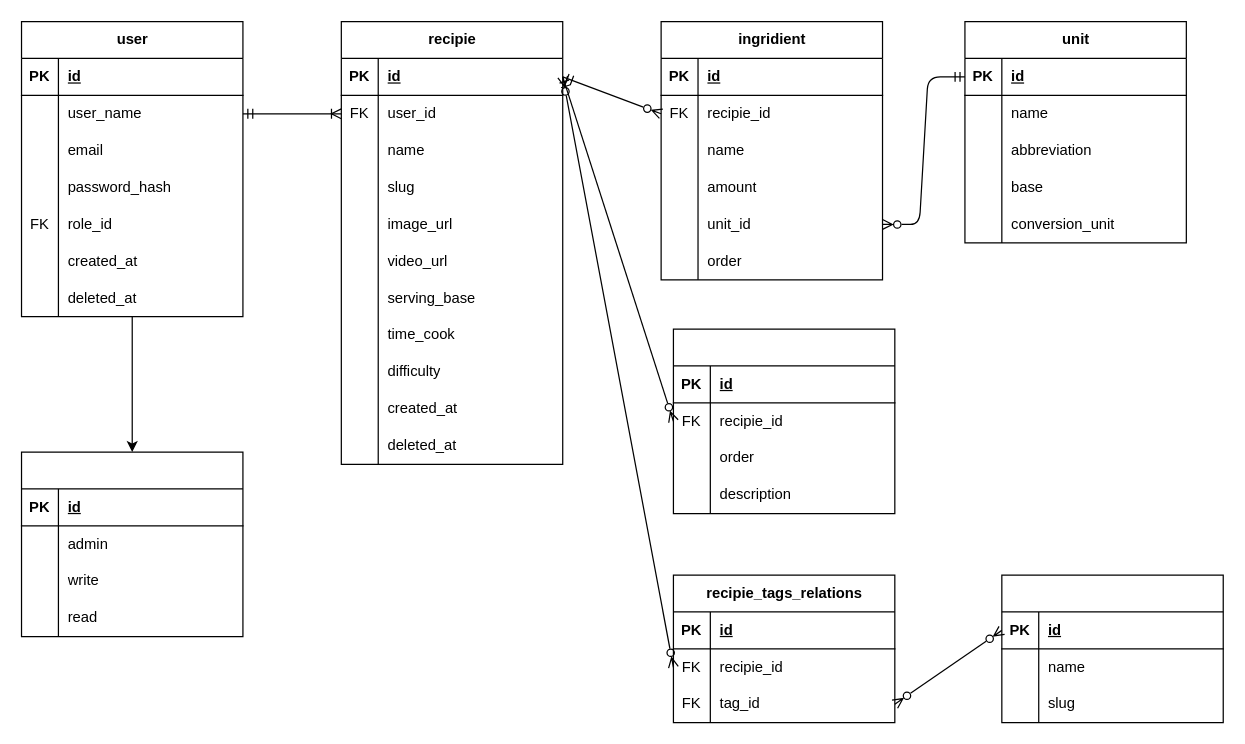
The diagram is 1245 pixels wide and 744 high, and some of its shapes have lost their labels. The shapes that lost their labels are listed below. From the top down, each one's box as (x1, y1, x2, y2) in pixels, then its label:
(672, 328, 895, 514): step
(20, 451, 243, 637): role
(1001, 574, 1223, 723): tags
